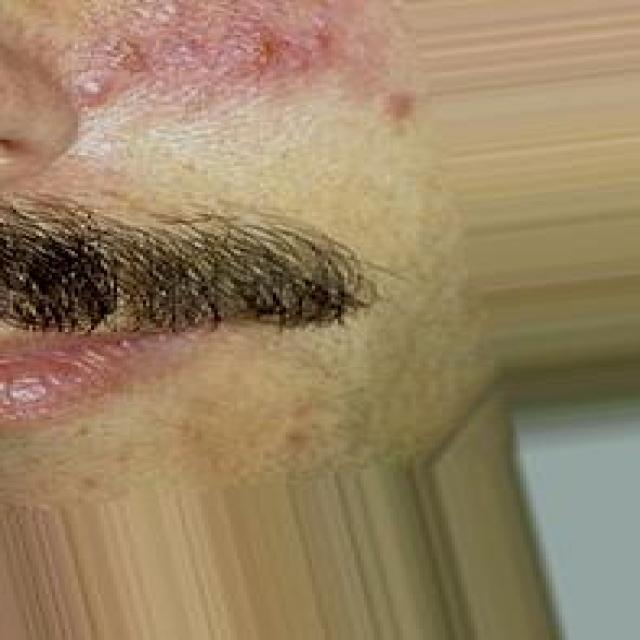Rosacea: (58, 0, 413, 137)
